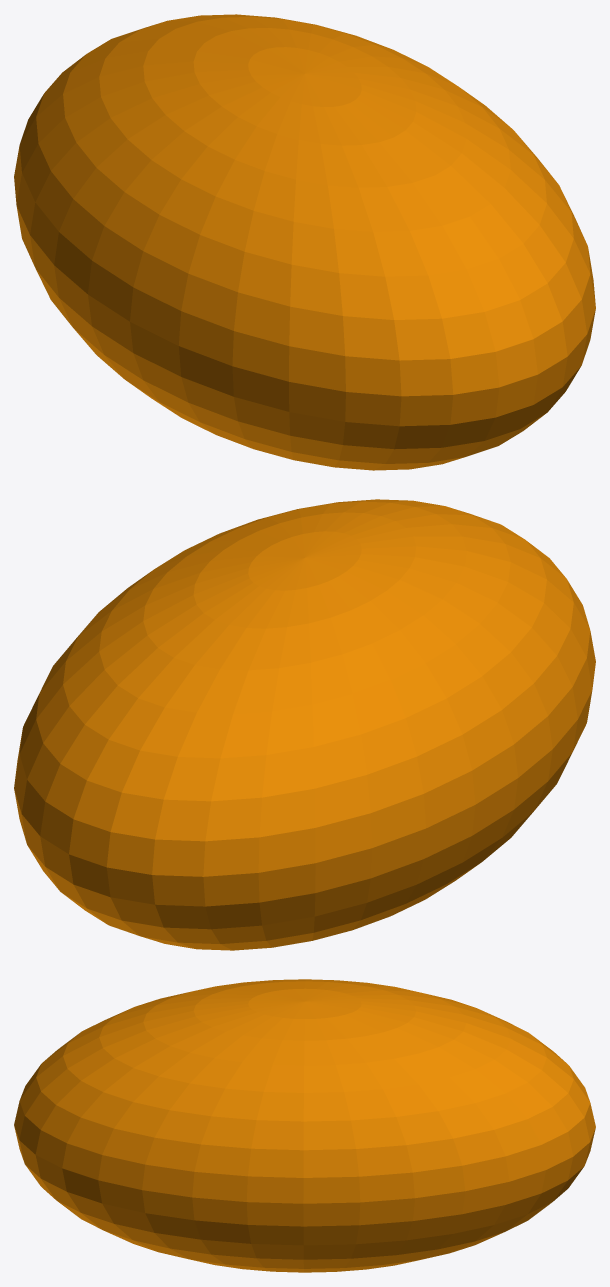
File: buffduck foot .fbx
3 views of the same model, one above another, from view 1: azimuth 30°, elevation 25°; view 2: azimuth 150°, elevation 25°; view 3: azimuth 270°, elevation 25° (orthographic). The views are drawn at different scales.
Visible parts, largest first — view 1: Sphere.002; view 2: Sphere.002; view 3: Sphere.002.
Part boxes in pixels (left/top/right/bottom): Sphere.002: left=14, top=14, right=595, bottom=470; Sphere.002: left=14, top=499, right=595, bottom=950; Sphere.002: left=14, top=979, right=595, bottom=1272.
Size of the model in its own units: 29.97 by 22.34 by 47.36.
